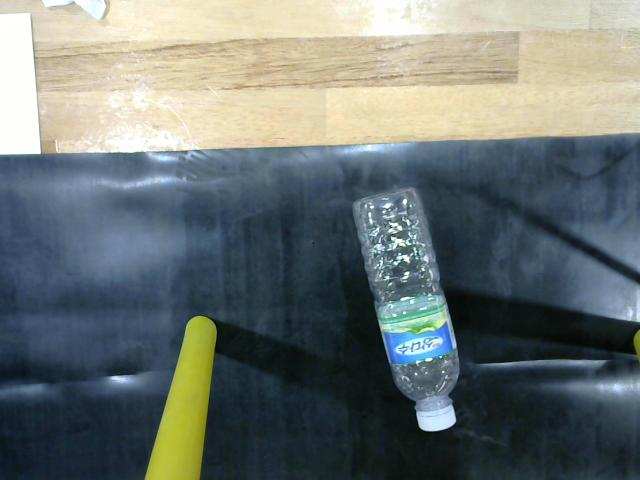bottle: (345, 182, 469, 440)
